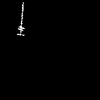treble_crochet: (17, 5, 23, 35)
